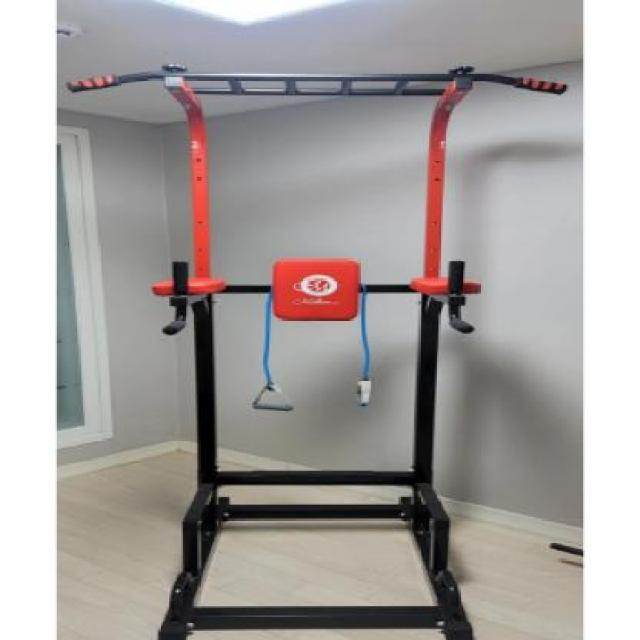chinning dipping: (64, 63, 564, 640)
